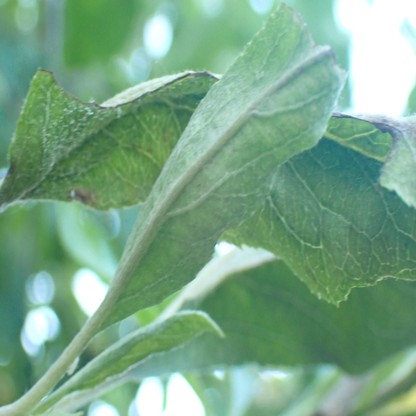powder: (41, 85, 123, 177), (175, 73, 249, 157), (273, 168, 346, 237)
scab: (114, 107, 175, 161), (289, 113, 309, 130)
